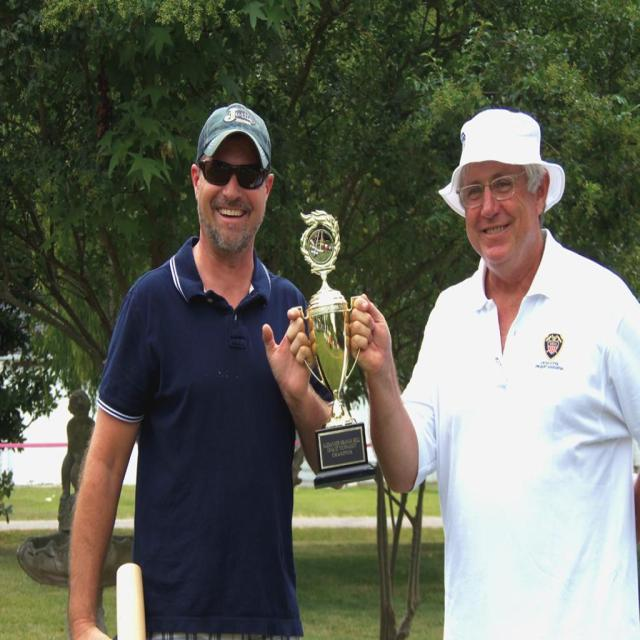Face: (451, 154, 542, 271), (195, 135, 278, 256)
